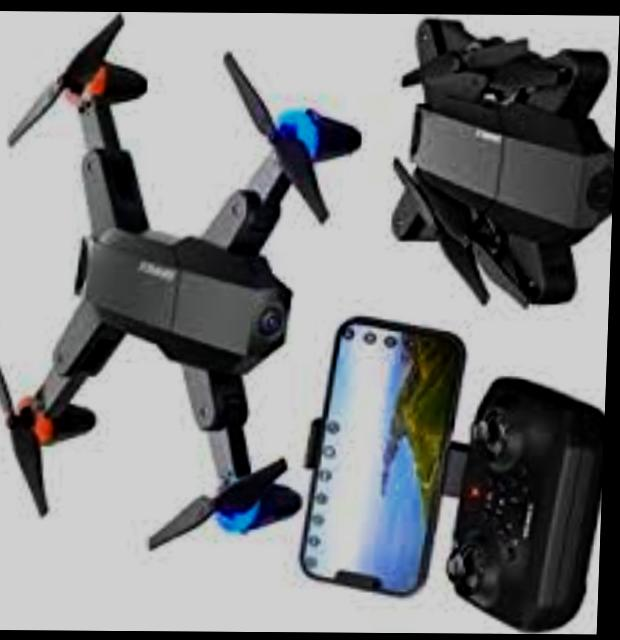drone: (0, 10, 369, 561)
